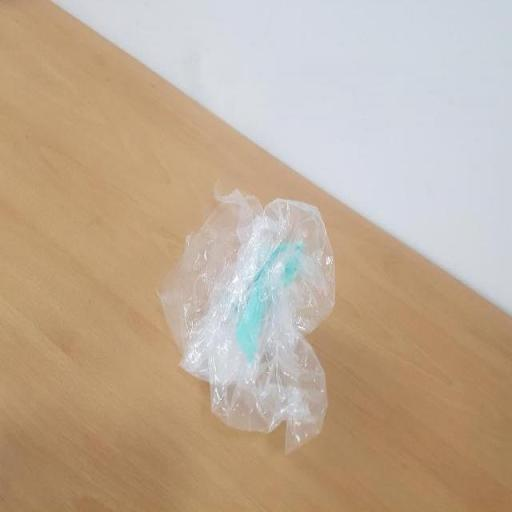plastic-bag: (154, 176, 340, 460)
